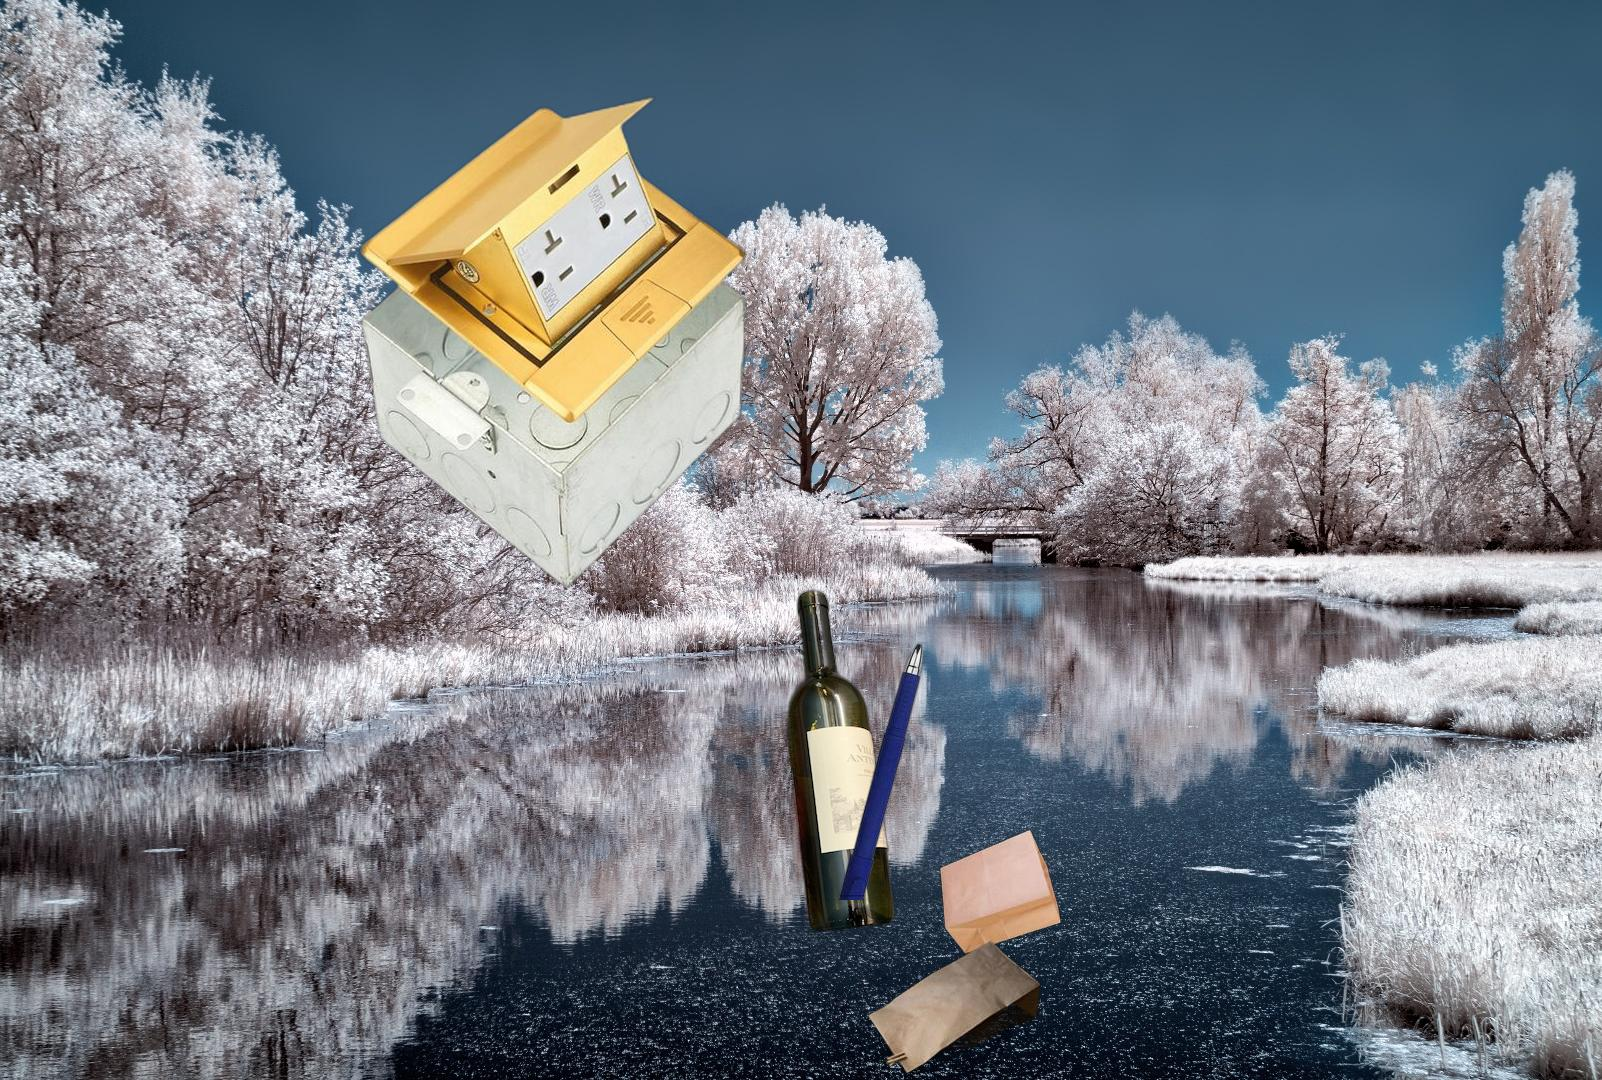glass: (782, 585, 898, 938)
paper-bag: (865, 827, 1064, 1076)
penholder: (649, 633, 931, 900)
plastic-bottles: (1506, 817, 1602, 1080), (104, 1076, 444, 1080)
trashbox-cardboard: (354, 92, 750, 593)
